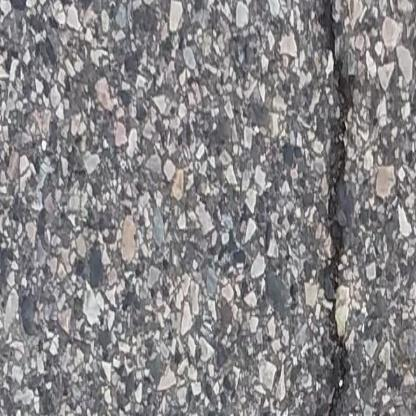Cracks: (314, 0, 356, 416)
